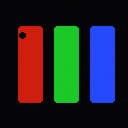0 point: (19, 32, 25, 38)
